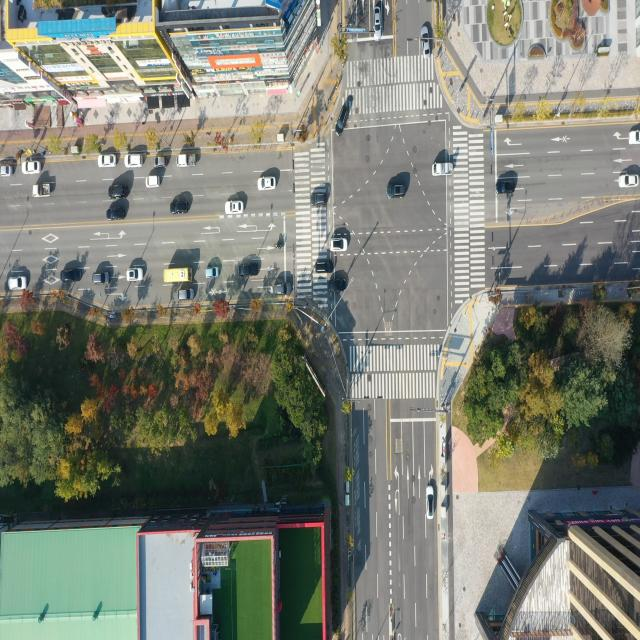car: (334, 105, 348, 136), (7, 276, 27, 292), (426, 485, 435, 520), (272, 282, 294, 296), (260, 176, 278, 192), (374, 6, 382, 42), (387, 184, 406, 199), (227, 201, 246, 216), (107, 207, 126, 222), (171, 202, 190, 217), (620, 173, 640, 187), (239, 263, 259, 277), (495, 181, 515, 195), (110, 184, 130, 198), (125, 154, 143, 169), (330, 278, 349, 292), (99, 155, 118, 169), (421, 25, 429, 57), (24, 162, 42, 176), (62, 270, 81, 283), (314, 261, 334, 273), (128, 269, 145, 283), (332, 238, 349, 252), (178, 289, 196, 302), (312, 192, 328, 205), (94, 274, 110, 286), (145, 176, 160, 188), (0, 165, 13, 178), (629, 131, 640, 145), (207, 269, 220, 280), (154, 156, 166, 167)
small_bus: (163, 268, 189, 285)
small_truck: (431, 162, 454, 178), (177, 155, 197, 169), (33, 183, 51, 198)
